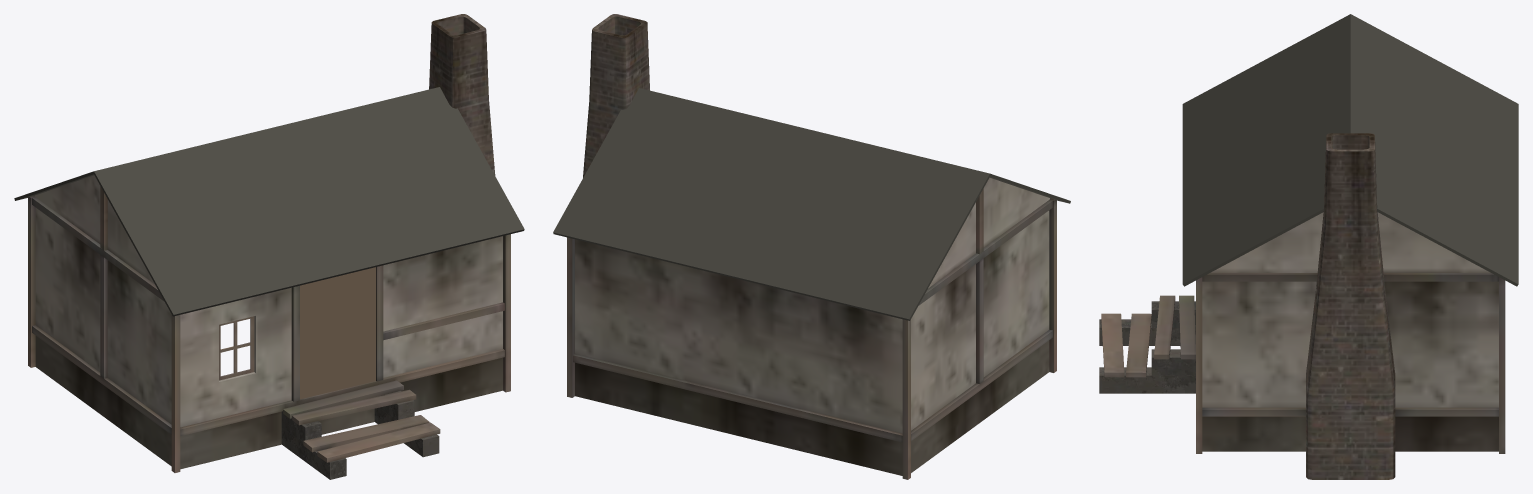
The model's file is camp-cabin.lod1.glb.
3 views of the same model, side by side, from view 1: azimuth 30°, elevation 25°; view 2: azimuth 150°, elevation 25°; view 3: azimuth 270°, elevation 25° (orthographic). The views are drawn at different scales.
Parts seen in each view (by area): view 1: Object_3, Object_6, Object_7, Object_4, Object_2; view 2: Object_6, Object_3, Object_7, Object_4; view 3: Object_3, Object_6, Object_4, Object_7, Object_2.
Part boxes in pixels (left/top/right/bottom): Object_3: left=14, top=87, right=524, bottom=399; Object_6: left=35, top=175, right=502, bottom=469; Object_7: left=28, top=186, right=510, bottom=472; Object_4: left=429, top=14, right=495, bottom=175; Object_2: left=281, top=391, right=439, bottom=479; Object_6: left=575, top=177, right=1049, bottom=475; Object_3: left=553, top=88, right=1070, bottom=320; Object_7: left=567, top=189, right=1056, bottom=479; Object_4: left=583, top=14, right=649, bottom=177; Object_3: left=1182, top=14, right=1518, bottom=286; Object_6: left=1202, top=212, right=1498, bottom=451; Object_4: left=1306, top=133, right=1395, bottom=479; Object_7: left=1101, top=273, right=1505, bottom=453; Object_2: left=1099, top=301, right=1195, bottom=393.
Size of the model in its own units: 10.5 by 7.8 by 9.18.
Materials: 5 (4 with a texture image).
